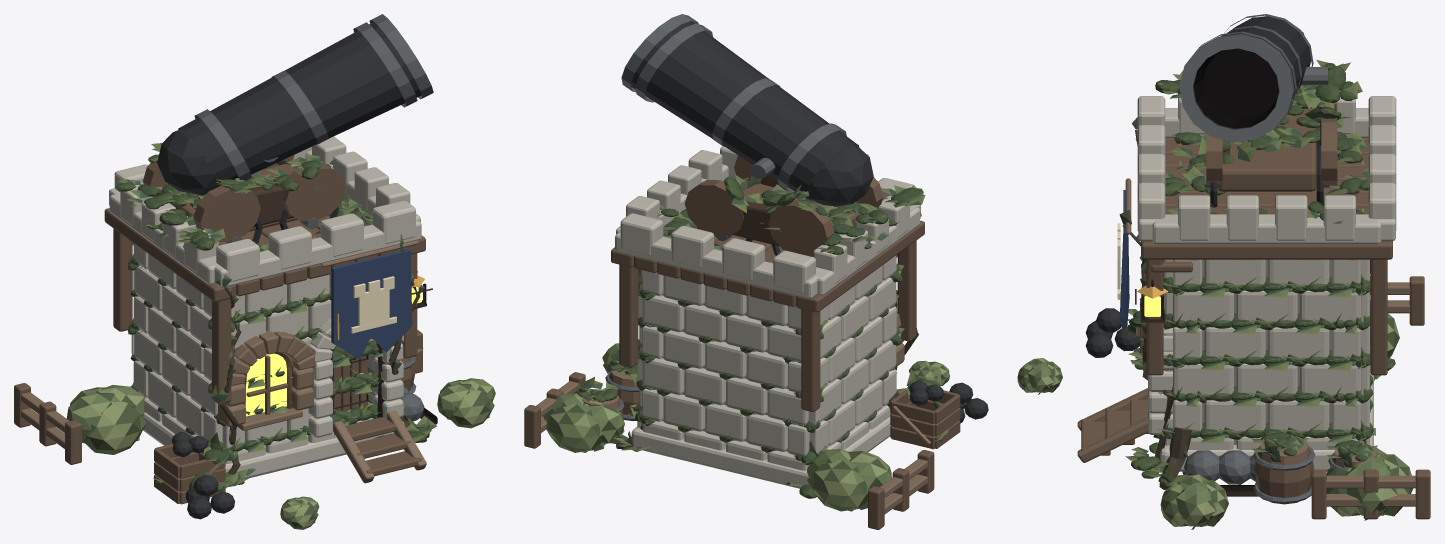
The model's file is bombarding_tower.glb.
3 renders of one model, left to right at view 1: azimuth 30°, elevation 25°; view 2: azimuth 150°, elevation 25°; view 3: azimuth 270°, elevation 25°, orthographic. The views are drawn at different scales.
Parts seen in each view (by area): view 1: Iron cannon barrel, Cloth heraldic banner, Projecting tower foundation, Cannon wooden wheel, Cannon breech, Cannon wooden wheel.001, Battlement base course, Leaf cluster.004, Gun platform plank, Platform upright.001, Platform upright, Warm arched window (+47 smaller); view 2: Iron cannon barrel, Projecting tower foundation, Cannon breech, Battlement base course.002, Cannon wooden wheel.002, Cannon wooden wheel.003, Leaf cluster.007, Leaf cluster.011, Platform upright.003, Platform upright.001, Gun platform plank, Platform upright (+57 smaller); view 3: Gun carriage bed, Recessed bore bottom, Thick annular cannon muzzle, Gun platform plank.008, Battlement base course.003, Iron cannon barrel, Platform upright.003, Barrel staves.001, Dressed limestone.032, Dressed limestone.066, Dressed limestone.082, Dressed limestone.033 (+62 smaller).
Part boxes in pixels (x1=…): Iron cannon barrel: x1=178, y1=22, x2=421, y2=186; Cloth heraldic banner: x1=331, y1=249, x2=412, y2=359; Projecting tower foundation: x1=143, y1=412, x2=404, y2=478; Cannon wooden wheel: x1=193, y1=186, x2=260, y2=241; Cannon breech: x1=157, y1=129, x2=218, y2=195; Cannon wooden wheel.001: x1=282, y1=163, x2=346, y2=221; Battlement base course: x1=214, y1=219, x2=421, y2=287; Leaf cluster.004: x1=85, y1=402, x2=146, y2=454; Gun platform plank: x1=104, y1=208, x2=236, y2=301; Platform upright.001: x1=113, y1=228, x2=132, y2=331; Platform upright: x1=212, y1=284, x2=231, y2=403; Warm arched window: x1=245, y1=353, x2=286, y2=416; Iron cannon barrel: x1=631, y1=21, x2=859, y2=200; Projecting tower foundation: x1=631, y1=417, x2=890, y2=488; Cannon breech: x1=807, y1=144, x2=873, y2=206; Battlement base course.002: x1=615, y1=231, x2=817, y2=298; Cannon wooden wheel.002: x1=768, y1=200, x2=833, y2=256; Cannon wooden wheel.003: x1=684, y1=180, x2=746, y2=236; Leaf cluster.007: x1=807, y1=460, x2=868, y2=511; Leaf cluster.011: x1=546, y1=404, x2=602, y2=452; Platform upright.003: x1=619, y1=264, x2=638, y2=367; Platform upright.001: x1=801, y1=309, x2=820, y2=411; Gun platform plank: x1=796, y1=220, x2=924, y2=312; Platform upright: x1=897, y1=240, x2=916, y2=341; Gun carriage bed: x1=1217, y1=108, x2=1316, y2=191; Recessed bore bottom: x1=1203, y1=48, x2=1279, y2=118; Thick annular cannon muzzle: x1=1179, y1=35, x2=1292, y2=142; Gun platform plank.008: x1=1141, y1=241, x2=1392, y2=259; Battlement base course.003: x1=1152, y1=214, x2=1381, y2=244; Iron cannon barrel: x1=1193, y1=16, x2=1311, y2=129; Platform upright.003: x1=1370, y1=259, x2=1387, y2=375; Barrel staves.001: x1=1254, y1=447, x2=1314, y2=504; Dressed limestone.032: x1=1204, y1=400, x2=1265, y2=432; Dressed limestone.066: x1=1204, y1=327, x2=1265, y2=359; Dressed limestone.082: x1=1236, y1=290, x2=1297, y2=322; Dressed limestone.033: x1=1268, y1=400, x2=1329, y2=432.
Bounding box in the file's own units: 4.58 × 4.67 × 3.79.
37 materials, 8 textured.
